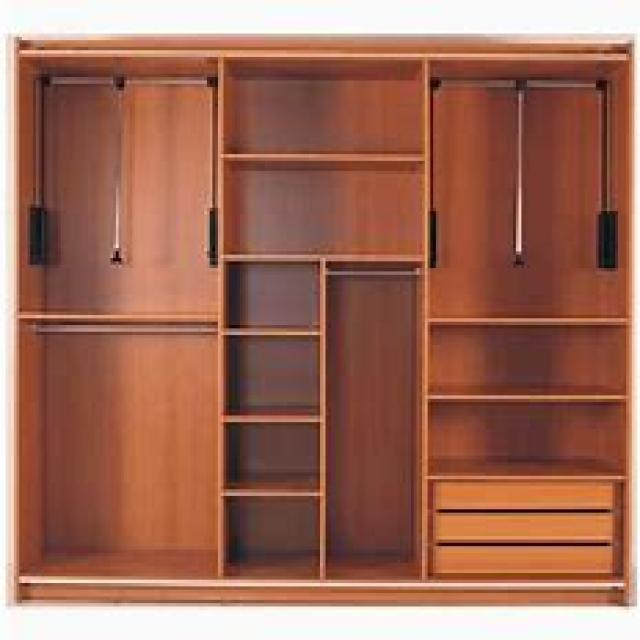dolap: (5, 34, 638, 606)
